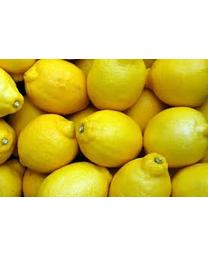lemon: (143, 105, 207, 168), (78, 110, 144, 166), (16, 112, 76, 173), (23, 60, 86, 112), (88, 60, 147, 112), (108, 153, 171, 196), (40, 161, 112, 197)
